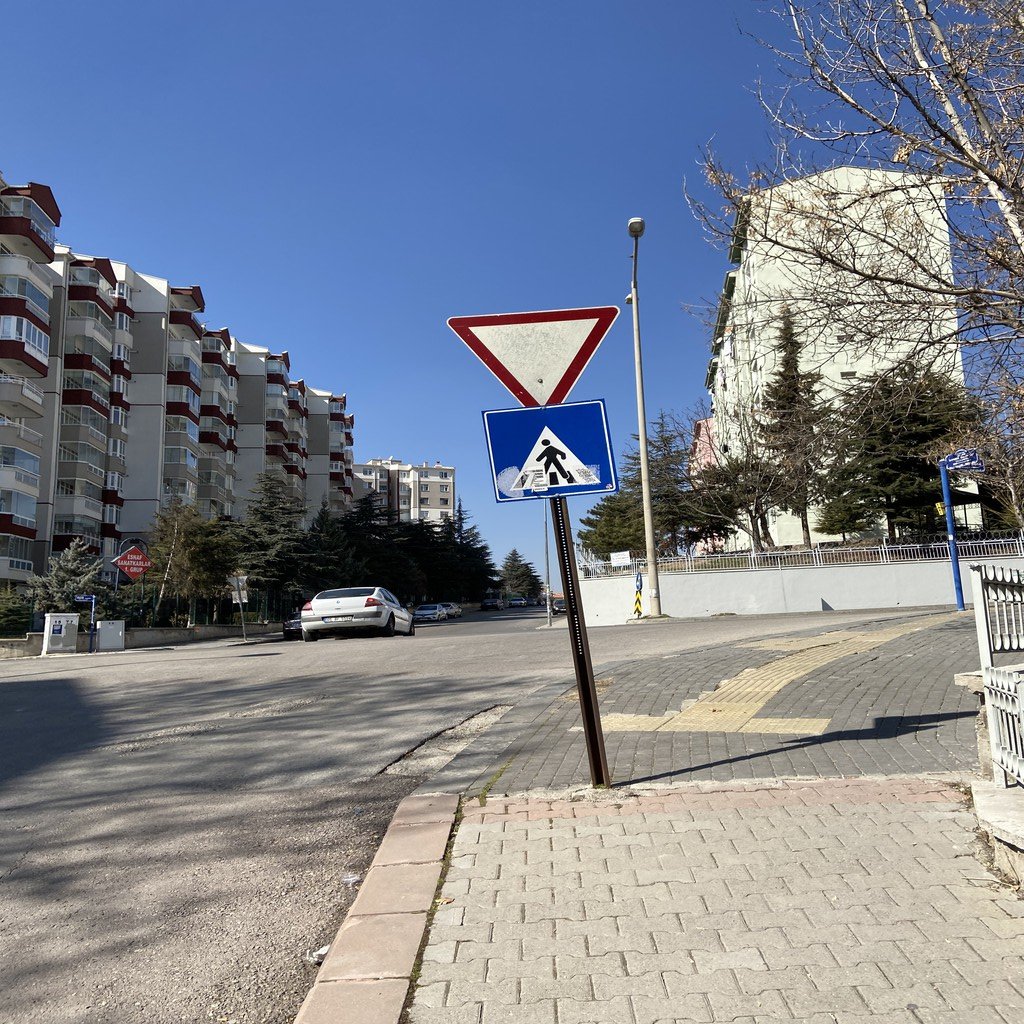Yaya Gecidi: (489, 410, 614, 493)
Yol Ver: (448, 306, 614, 406)
